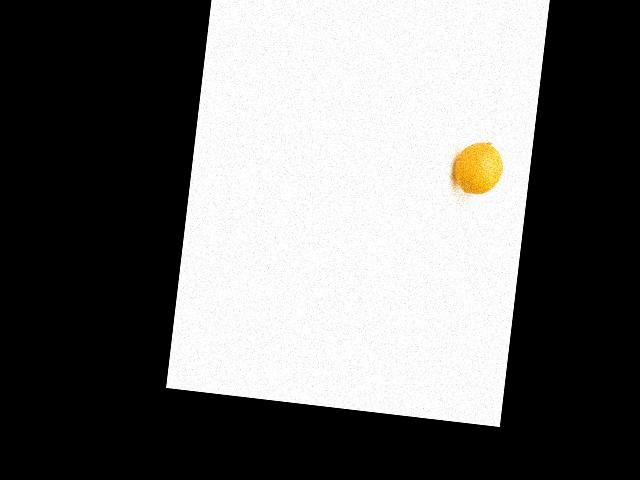lemon: (444, 137, 506, 203)
